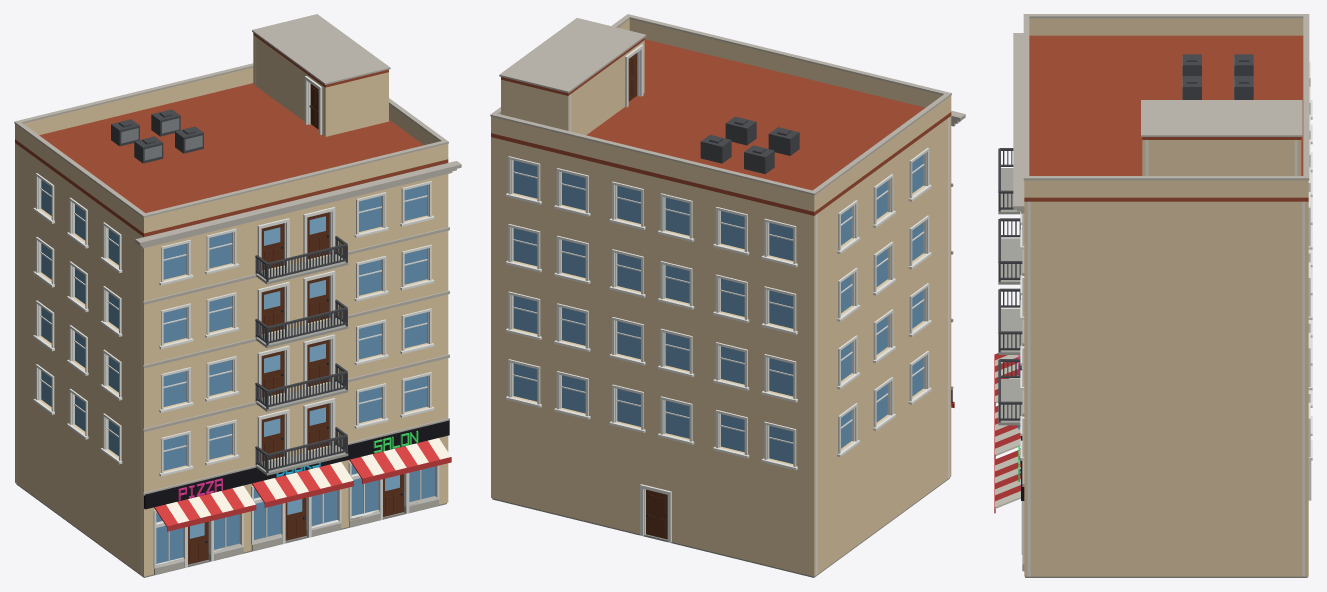
Rendered from MidRiseStucco.glb.
3 renders of one model, left to right at view 1: azimuth 30°, elevation 25°; view 2: azimuth 150°, elevation 25°; view 3: azimuth 270°, elevation 25°, orthographic. The views are drawn at different scales.
Visible parts, largest first — view 1: MidRiseStucco_Stucco, MidRiseStucco_Roof, MidRiseStucco_Trim, MidRiseStucco_Glass, MidRiseStucco_Stone, MidRiseStucco_Metal, MidRiseStucco_AwningB, MidRiseStucco_Concrete, MidRiseStucco_Sign, MidRiseStucco_DecoAccent, MidRiseStucco_WallsIn, MidRiseStucco_Louver (+12 smaller); view 2: MidRiseStucco_Stucco, MidRiseStucco_Roof, MidRiseStucco_Trim, MidRiseStucco_Glass, MidRiseStucco_Stone, MidRiseStucco_Metal, MidRiseStucco_WallsIn, MidRiseStucco_Door1, MidRiseStucco_Foundation; view 3: MidRiseStucco_Stucco, MidRiseStucco_Roof, MidRiseStucco_Stone, MidRiseStucco_Metal, MidRiseStucco_Concrete, MidRiseStucco_Trim, MidRiseStucco_WallsIn, MidRiseStucco_AwningB, MidRiseStucco_DecoAccent, MidRiseStucco_Foundation.
Boxes of the visible parts, x1,y1,x2,y2 form: MidRiseStucco_Stucco: (15,35,448,576); MidRiseStucco_Roof: (15,33,448,236); MidRiseStucco_Trim: (33,76,439,568); MidRiseStucco_Glass: (41,180,434,563); MidRiseStucco_Stone: (14,14,461,574); MidRiseStucco_Metal: (111,109,404,490); MidRiseStucco_AwningB: (154,440,451,531); MidRiseStucco_Concrete: (255,254,348,475); MidRiseStucco_Sign: (144,420,449,509); MidRiseStucco_DecoAccent: (166,438,450,523); MidRiseStucco_WallsIn: (16,36,323,575); MidRiseStucco_Louver: (121,118,202,160); MidRiseStucco_Stucco: (491,19,951,576); MidRiseStucco_Roof: (491,38,951,215); MidRiseStucco_Trim: (505,44,931,542); MidRiseStucco_Glass: (513,155,923,463); MidRiseStucco_Stone: (490,14,965,389); MidRiseStucco_Metal: (700,116,799,174); MidRiseStucco_WallsIn: (570,41,949,575); MidRiseStucco_Door1: (646,489,667,539); MidRiseStucco_Foundation: (492,478,949,577); MidRiseStucco_Stucco: (1024,18,1308,576); MidRiseStucco_Roof: (1024,35,1308,201); MidRiseStucco_Stone: (1013,14,1309,571); MidRiseStucco_Metal: (998,54,1253,475); MidRiseStucco_Concrete: (998,168,1021,425); MidRiseStucco_Trim: (1020,62,1312,564); MidRiseStucco_WallsIn: (1027,140,1304,576); MidRiseStucco_AwningB: (994,353,1020,513); MidRiseStucco_DecoAccent: (995,355,1020,508); MidRiseStucco_Foundation: (1025,576,1307,577).
Size of the model in its own units: 63.4 by 75.2 by 49.2.
